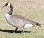goose: (1, 1, 44, 34)
